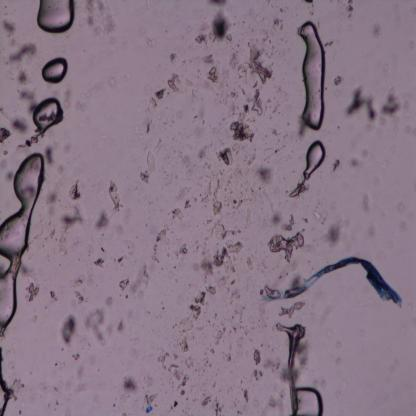Air bubble: (0, 153, 45, 336), (297, 21, 326, 132), (37, 0, 77, 35), (32, 98, 63, 135), (303, 139, 327, 181), (296, 386, 324, 416), (41, 57, 69, 84), (0, 371, 10, 415)
Background material: (226, 274, 252, 348), (174, 291, 206, 351), (157, 352, 190, 396), (344, 84, 376, 124), (84, 0, 117, 37), (246, 42, 272, 85), (268, 232, 305, 262), (82, 309, 106, 347), (70, 347, 89, 391), (198, 347, 221, 381), (210, 247, 237, 275), (149, 228, 168, 264), (382, 84, 402, 118), (395, 204, 416, 235), (132, 264, 151, 298), (58, 315, 78, 347), (212, 10, 232, 42), (207, 220, 238, 240), (230, 120, 255, 144), (9, 44, 38, 64), (70, 273, 87, 306), (277, 300, 306, 318), (109, 180, 124, 214), (59, 206, 84, 226), (327, 220, 344, 249), (191, 256, 215, 276), (196, 142, 214, 168), (172, 201, 192, 222), (11, 114, 30, 136), (361, 221, 377, 247), (148, 87, 166, 110), (250, 87, 264, 116), (204, 63, 221, 86), (200, 395, 223, 412), (74, 90, 93, 110), (256, 165, 274, 186), (144, 389, 159, 414), (289, 180, 307, 200), (10, 377, 25, 401), (95, 208, 110, 232), (281, 212, 298, 233), (166, 70, 182, 92), (264, 356, 284, 373), (213, 323, 227, 347), (67, 182, 82, 204), (144, 148, 156, 175), (124, 374, 140, 394), (298, 340, 308, 372), (219, 148, 234, 169), (18, 86, 37, 102), (313, 207, 329, 226), (173, 245, 189, 263), (224, 240, 244, 254), (200, 180, 212, 203), (27, 280, 40, 301), (2, 18, 17, 36), (270, 209, 284, 228), (350, 154, 365, 171), (244, 205, 254, 230), (57, 234, 67, 258), (44, 144, 56, 164), (194, 32, 209, 48), (329, 156, 342, 174), (16, 70, 29, 88), (211, 199, 224, 217), (328, 336, 344, 350), (361, 193, 370, 217), (204, 281, 217, 297), (372, 22, 382, 42), (246, 150, 257, 168), (201, 52, 215, 66), (114, 254, 128, 268), (22, 137, 37, 150), (0, 126, 12, 142), (168, 51, 180, 67), (46, 192, 59, 206), (139, 168, 149, 186), (252, 346, 261, 366), (346, 0, 354, 22), (166, 397, 179, 410), (207, 0, 228, 8), (145, 34, 156, 49), (405, 128, 416, 143), (232, 195, 243, 210), (117, 278, 131, 289), (332, 72, 342, 87), (273, 18, 285, 30), (94, 258, 106, 270), (253, 368, 264, 381), (267, 394, 277, 408), (48, 289, 58, 303), (246, 254, 254, 271), (273, 130, 286, 140), (110, 74, 119, 88), (116, 320, 125, 334), (275, 144, 287, 154), (240, 103, 249, 116), (336, 356, 344, 368), (244, 387, 249, 405), (145, 120, 151, 134), (193, 191, 199, 203), (362, 150, 368, 160)
Cellulose filter fibre: (277, 320, 305, 416)
Cotton: (261, 256, 406, 304)
